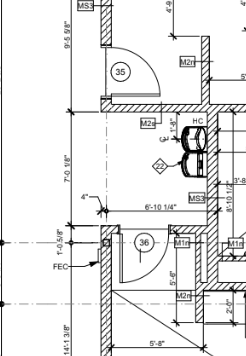door: (103, 45, 164, 100), (117, 226, 168, 285)
